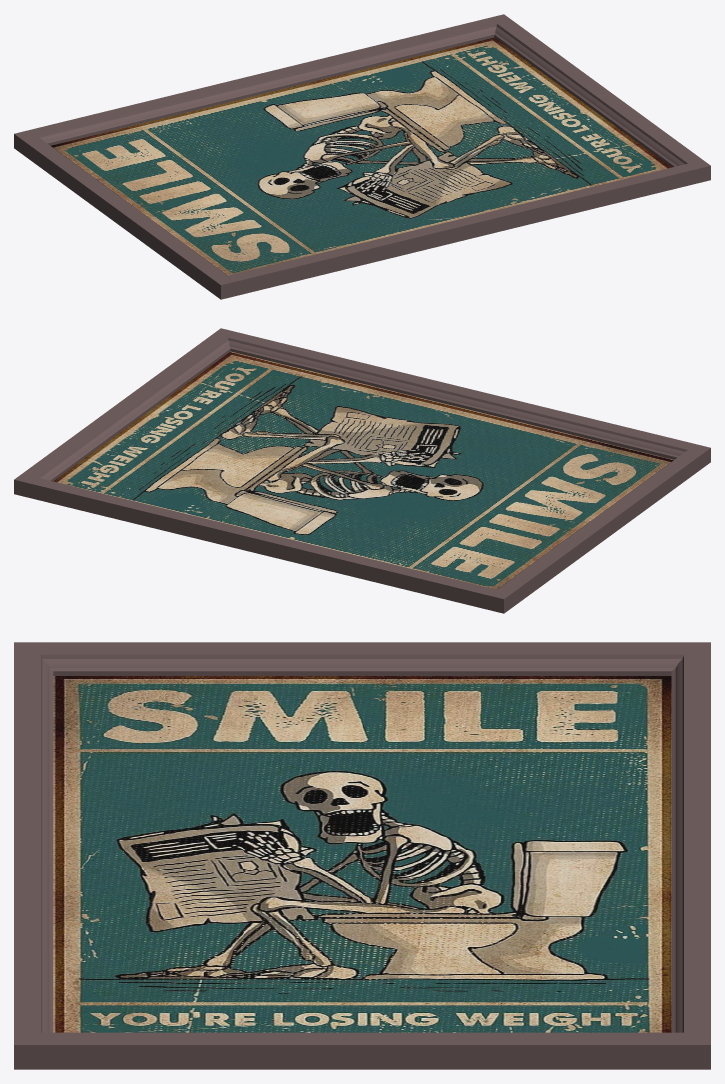
The model's file is Wall_Poster.fbx.
3 views of the same model, one above another, from view 1: azimuth 30°, elevation 25°; view 2: azimuth 150°, elevation 25°; view 3: azimuth 270°, elevation 25° (orthographic). The views are drawn at different scales.
Parts seen in each view (by area): view 1: pPlane2, pPlane3; view 2: pPlane2, pPlane3; view 3: pPlane2, pPlane3.
Part boxes in pixels (x1=…): pPlane2: x1=50, y1=37, x2=671, y2=275; pPlane3: x1=14, y1=14, x2=710, y2=299; pPlane2: x1=53, y1=351, x2=674, y2=589; pPlane3: x1=14, y1=328, x2=710, y2=613; pPlane2: x1=53, y1=676, x2=671, y2=1032; pPlane3: x1=14, y1=642, x2=710, y2=1069.
Size of the model in its own units: 24.22 by 0.684 by 17.72.
